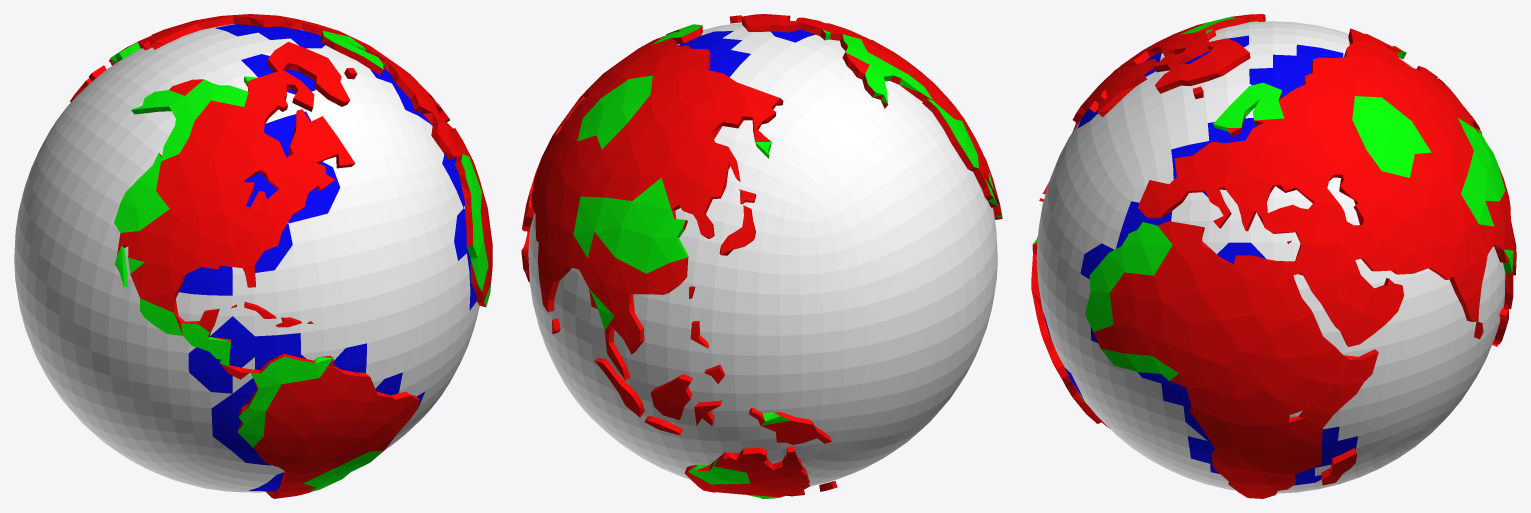
File: globe.glb
3 renders of one model, left to right at view 1: azimuth 30°, elevation 25°; view 2: azimuth 150°, elevation 25°; view 3: azimuth 270°, elevation 25°, orthographic.
Visible parts, largest first — view 1: Global_B, Global_A; view 2: Global_B, Global_A; view 3: Global_A, Global_B.
Boxes of the visible parts, box(x1,y1,x2,y2) form: Global_B: box(14, 24, 479, 492); Global_A: box(70, 14, 492, 498); Global_B: box(528, 23, 997, 486); Global_A: box(521, 14, 1002, 498); Global_A: box(1031, 14, 1516, 498); Global_B: box(1036, 21, 1505, 493).
Bounding box in the file's own units: 6.01 × 6.05 × 6.08.
Materials: 2 (2 with a texture image).
